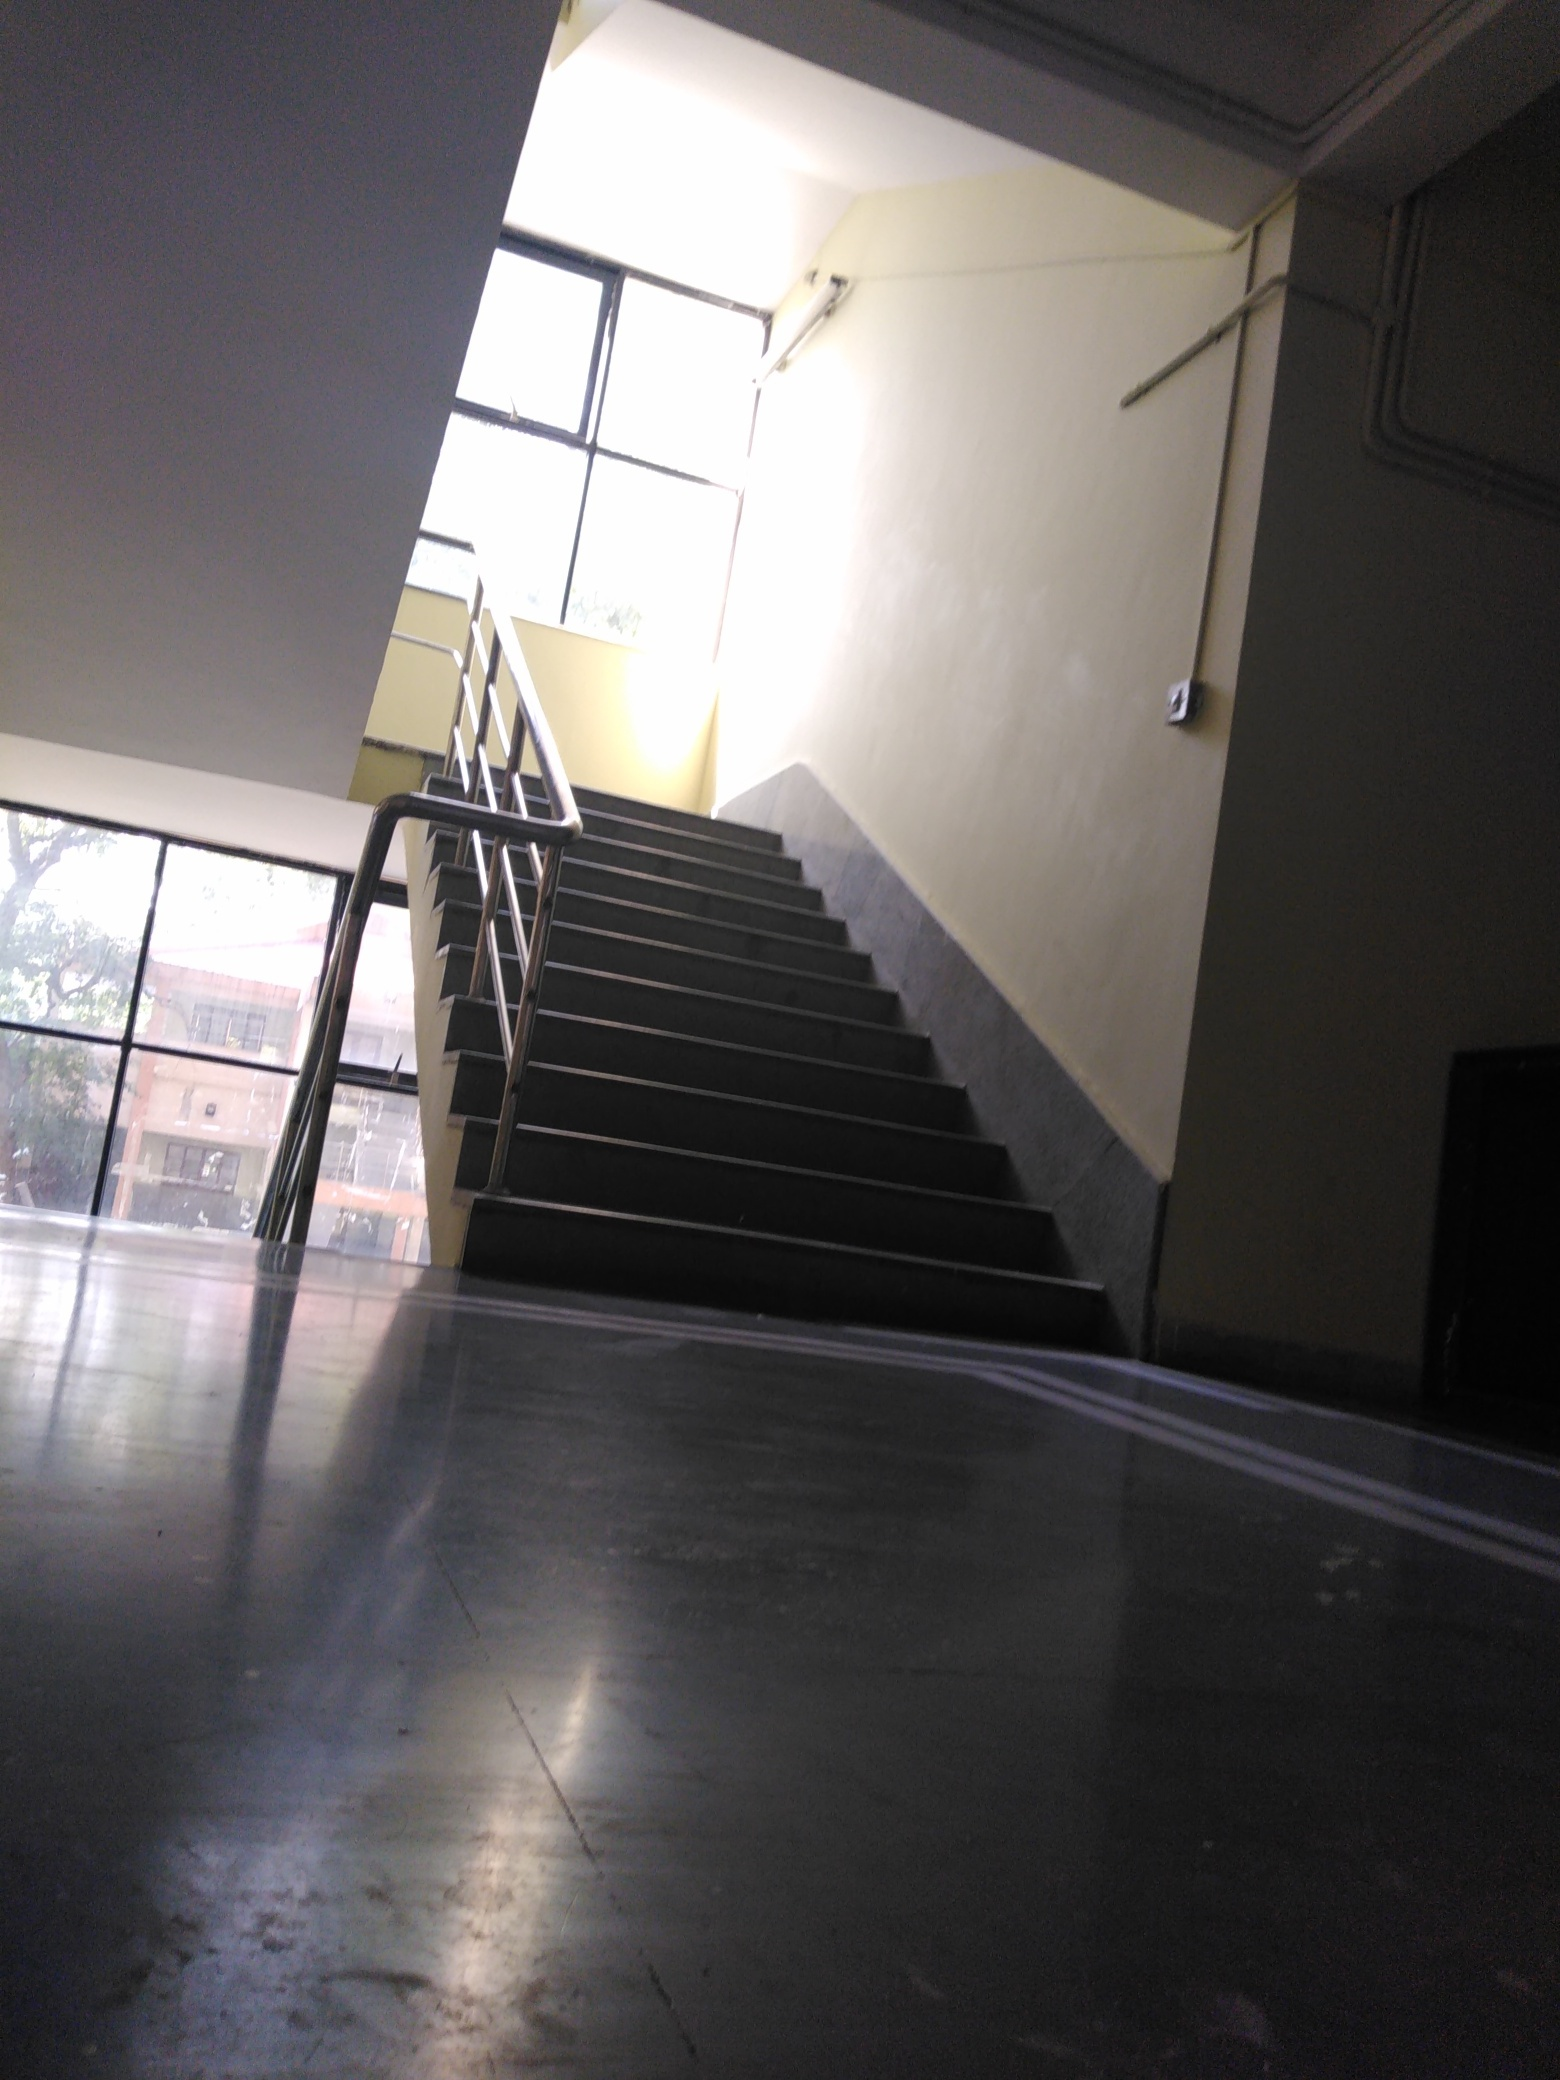stairs_up: (433, 755, 1082, 1295)
